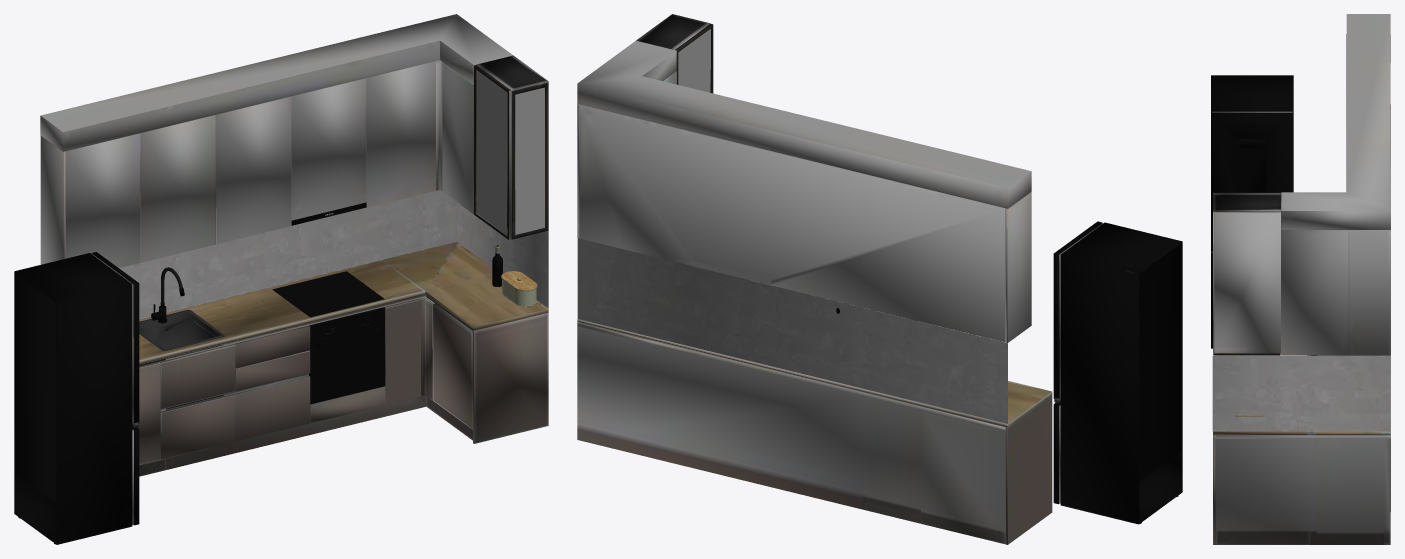
The model's file is kitchen_modern.glb.
3 views of the same model, side by side, from view 1: azimuth 30°, elevation 25°; view 2: azimuth 150°, elevation 25°; view 3: azimuth 270°, elevation 25° (orthographic). The views are drawn at different scales.
Parts seen in each view (by area): view 1: Kitchen, Cube.061, Realistic oven, Induction Stove, Plane.031, Bread Box; view 2: Kitchen, Cube.061; view 3: Kitchen, Cube.061.
Part boxes in pixels (x1,y1,x2,y2): Kitchen: [40, 14, 548, 476]; Cube.061: [14, 252, 139, 544]; Realistic oven: [309, 307, 385, 404]; Induction Stove: [272, 271, 384, 317]; Plane.031: [139, 310, 224, 351]; Bread Box: [501, 271, 537, 306]; Kitchen: [577, 14, 1052, 544]; Cube.061: [1053, 221, 1182, 524]; Kitchen: [1212, 14, 1390, 544]; Cube.061: [1211, 75, 1293, 348].
Size of the model in its own units: 3.96 by 2.65 by 1.29.
Materials: 17 (14 with a texture image).
